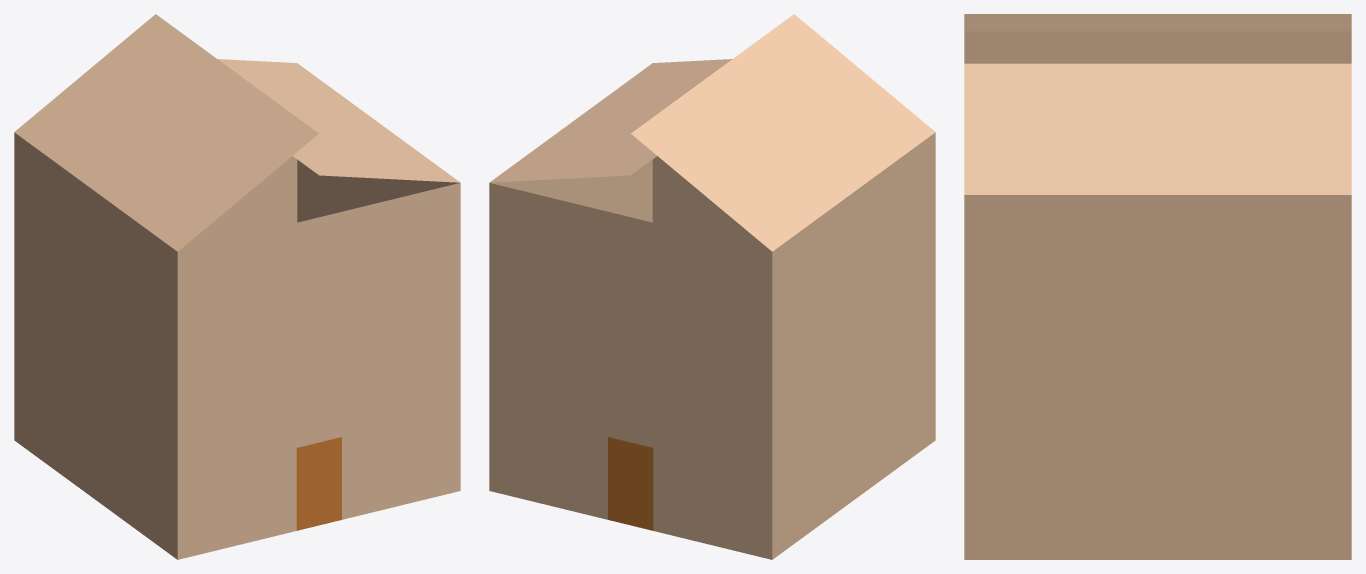
File: cardboardBox.dae
The picture shows the model from 3 angles, left to right: view 1: azimuth 30°, elevation 25°; view 2: azimuth 150°, elevation 25°; view 3: azimuth 270°, elevation 25°; orthographic projection. The views are drawn at different scales.
Visible parts, largest first — view 1: cardboardBox, cardboardBoxFlap1, cardboardBoxFlap2; view 2: cardboardBox, cardboardBoxFlap1, cardboardBoxFlap2; view 3: cardboardBox, cardboardBoxFlap2, cardboardBoxFlap1.
Part boxes in pixels (bbox=[...]): cardboardBox: bbox=[14, 132, 460, 559]; cardboardBoxFlap1: bbox=[14, 14, 318, 251]; cardboardBoxFlap2: bbox=[217, 59, 459, 182]; cardboardBox: bbox=[489, 132, 935, 559]; cardboardBoxFlap1: bbox=[631, 14, 935, 251]; cardboardBoxFlap2: bbox=[490, 59, 732, 182]; cardboardBox: bbox=[964, 31, 1351, 559]; cardboardBoxFlap2: bbox=[964, 63, 1351, 194]; cardboardBoxFlap1: bbox=[964, 14, 1351, 31].
Bounding box in the file's own units: 0.2125 × 0.2125 × 0.281.
